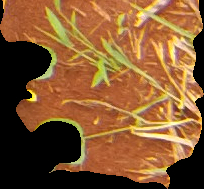soil: (1, 1, 203, 188)
